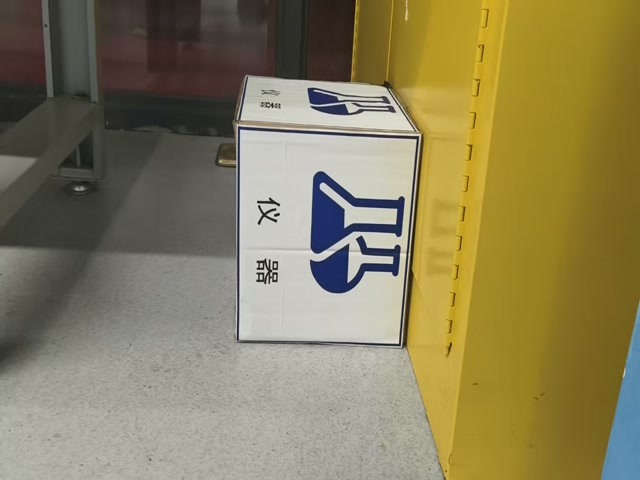Cube_ins: (228, 78, 415, 138)
